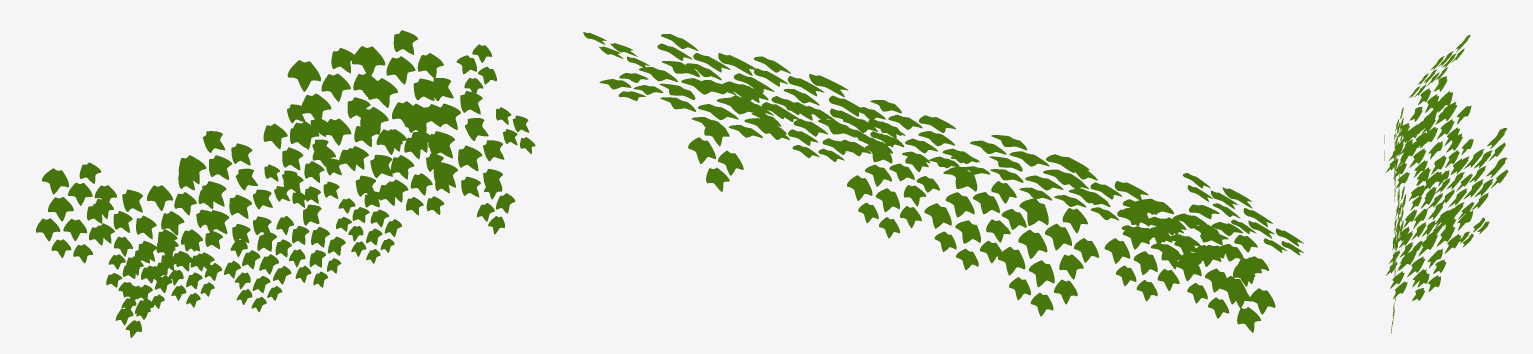
Rendered from Prop_Vine7.gltf.
3 renders of one model, left to right at view 1: azimuth 30°, elevation 25°; view 2: azimuth 150°, elevation 25°; view 3: azimuth 270°, elevation 25°, orthographic. The views are drawn at different scales.
Parts seen in each view (by area): view 1: Prop_Vine7; view 2: Prop_Vine7; view 3: Prop_Vine7.
Part boxes in pixels (<box>): Prop_Vine7: <box>36,30,535,337</box>; Prop_Vine7: <box>583,32,1303,332</box>; Prop_Vine7: <box>1384,35,1508,333</box>.
Bounding box in the file's own units: 4.14 × 1.57 × 1.13.
Materials: 1 (1 with a texture image).
